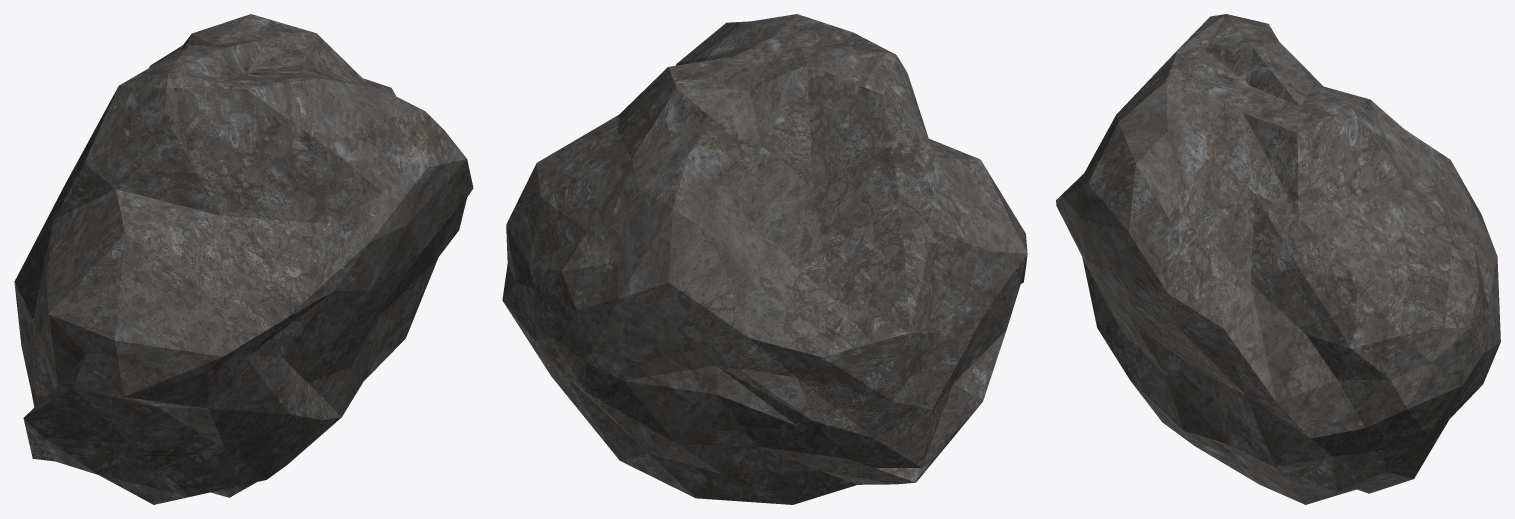
File: SNSS_Lmain_Asteroid005.fbx
3 renders of one model, left to right at view 1: azimuth 30°, elevation 25°; view 2: azimuth 150°, elevation 25°; view 3: azimuth 270°, elevation 25°, orthographic. The views are drawn at different scales.
Parts seen in each view (by area): view 1: Asteriod_05; view 2: Asteriod_05; view 3: Asteriod_05.
Part boxes in pixels (box(x1,y1,x2,y2)): Asteriod_05: box(14, 14, 473, 504); Asteriod_05: box(502, 14, 1027, 504); Asteriod_05: box(1056, 14, 1500, 504).
Bounding box in the file's own units: 727 × 698 × 648.
